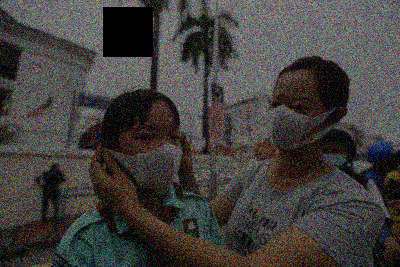with_mask: (119, 122, 184, 192), (265, 90, 324, 153)
